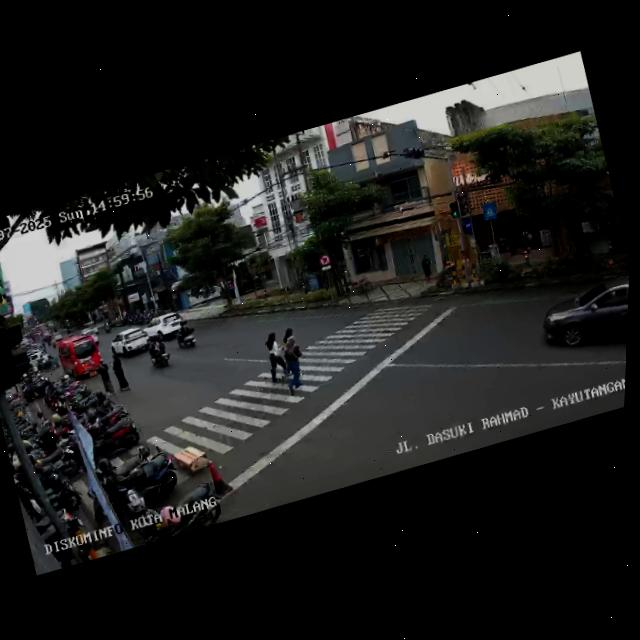car: (535, 272, 629, 372), (53, 329, 106, 383), (107, 321, 158, 360), (141, 307, 191, 345)
motorcycle: (142, 329, 173, 371), (172, 318, 201, 353)
person: (273, 333, 313, 397), (270, 325, 310, 384), (257, 327, 293, 389), (106, 349, 134, 395), (93, 351, 116, 396)
